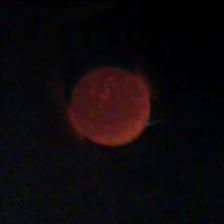infertile: (66, 63, 152, 148)
